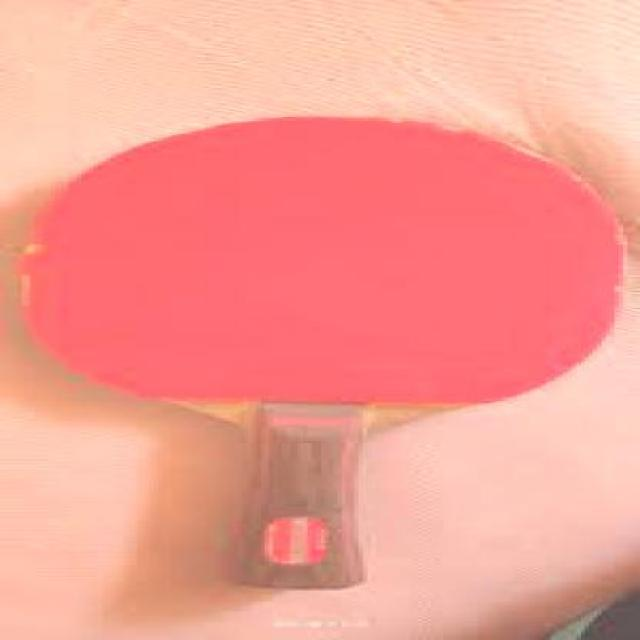table_tennis_racket: (14, 112, 628, 595)
